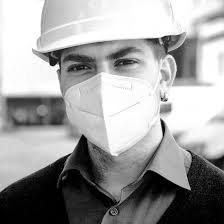masked: (38, 2, 180, 153)
